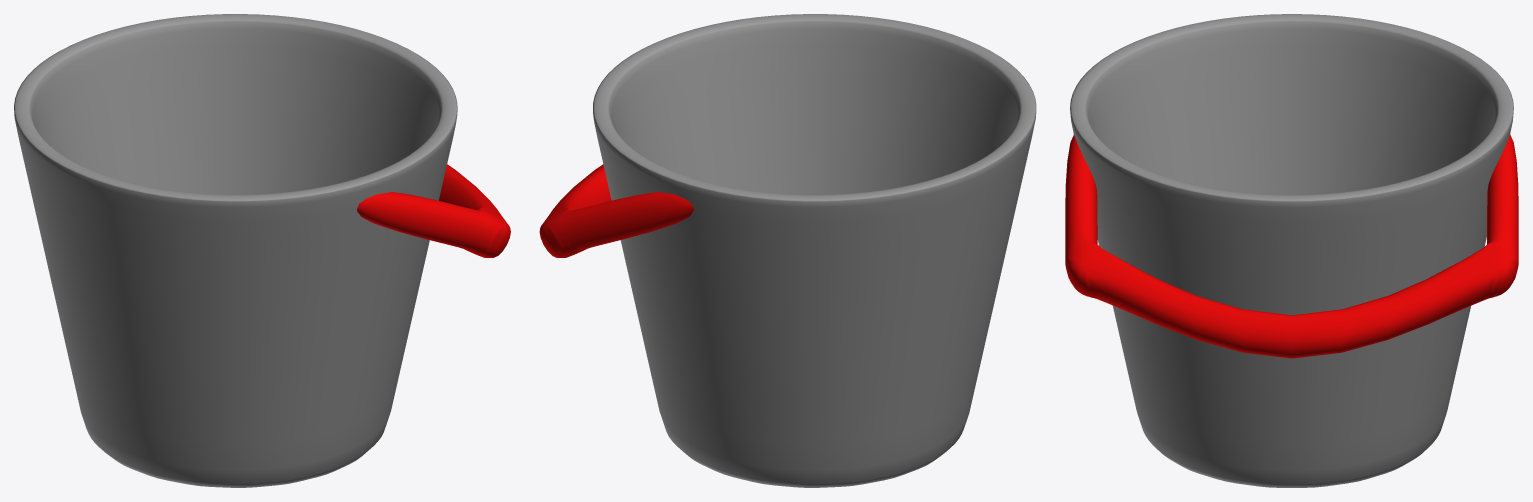
Rendered from Bucket (2).fbx.
The picture shows the model from 3 angles, left to right: view 1: azimuth 30°, elevation 25°; view 2: azimuth 150°, elevation 25°; view 3: azimuth 270°, elevation 25°; orthographic projection.
Parts seen in each view (by area): view 1: Bucket, pCube14; view 2: Bucket, pCube14; view 3: Bucket, pCube14.
Part boxes in pixels (x1,y1,x2,y2): Bucket: (14,14,457,487); pCube14: (357,164,510,257); Bucket: (593,14,1036,487); pCube14: (539,164,693,257); Bucket: (1070,14,1513,487); pCube14: (1065,134,1518,358).
Size of the model in its own units: 61.89 by 45.8 by 58.15.
